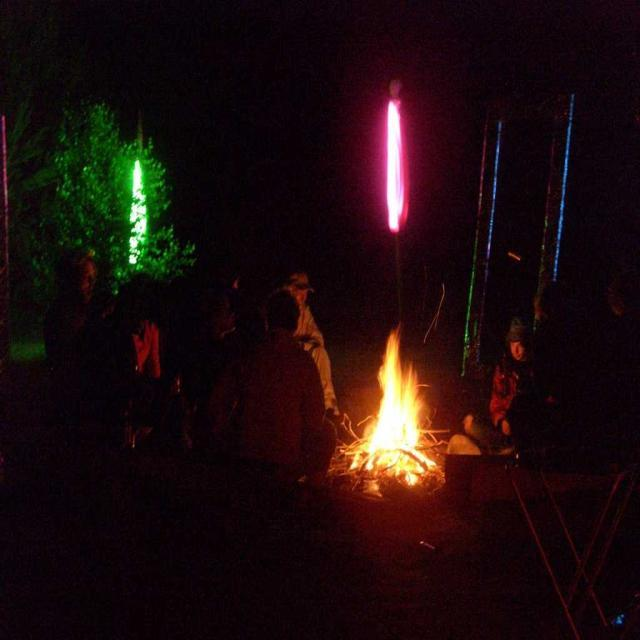Fire: (360, 342, 436, 514), (385, 78, 421, 245)
